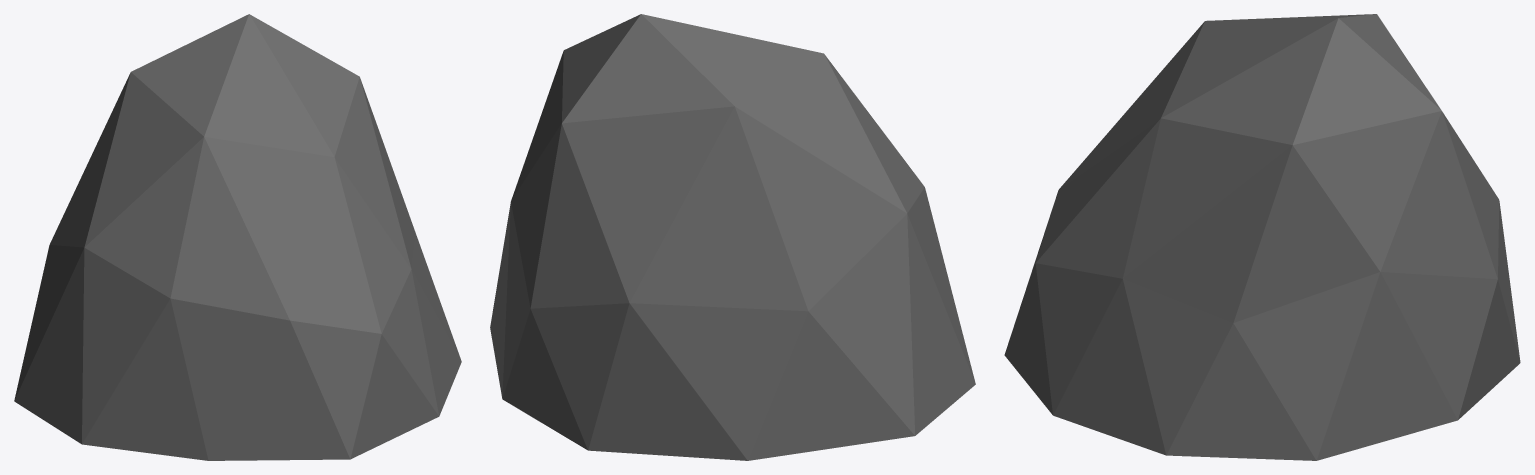
File: ForestStone(3).fbx
3 views of the same model, side by side, from view 1: azimuth 30°, elevation 25°; view 2: azimuth 150°, elevation 25°; view 3: azimuth 270°, elevation 25° (orthographic). The views are drawn at different scales.
Parts seen in each view (by area): view 1: Stone(3); view 2: Stone(3); view 3: Stone(3).
Boxes of the visible parts, x1,y1,x2,y2 form: Stone(3): [14, 14, 461, 460]; Stone(3): [490, 14, 975, 460]; Stone(3): [1004, 14, 1520, 460].
Size of the model in its own units: 1.77 by 1.42 by 1.83.
